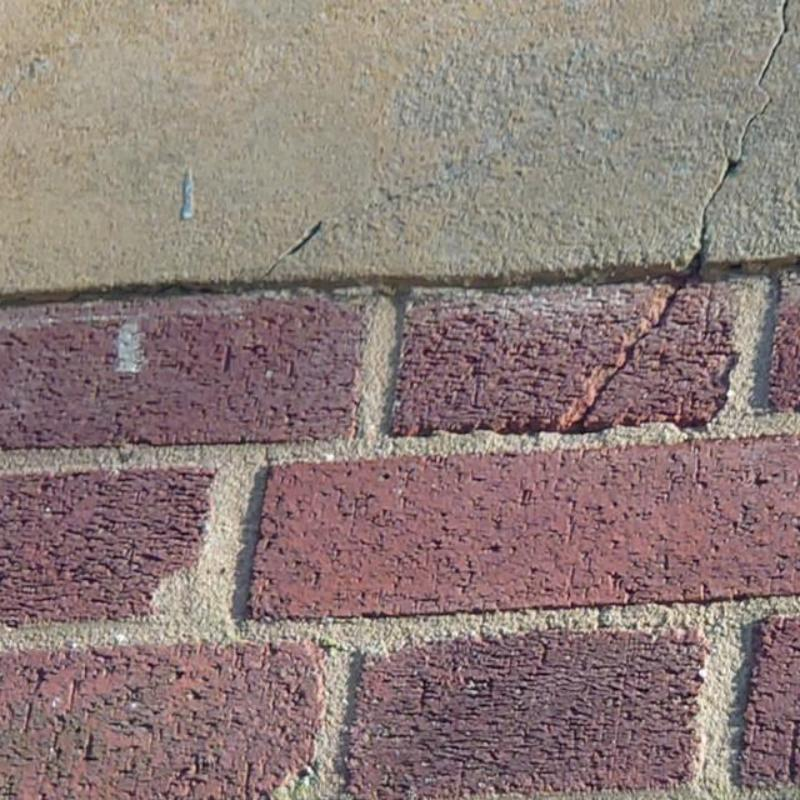pothole: (561, 0, 799, 435)
